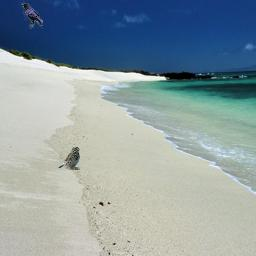Crow: (21, 3, 43, 29)
Sparrow: (58, 146, 80, 170)
